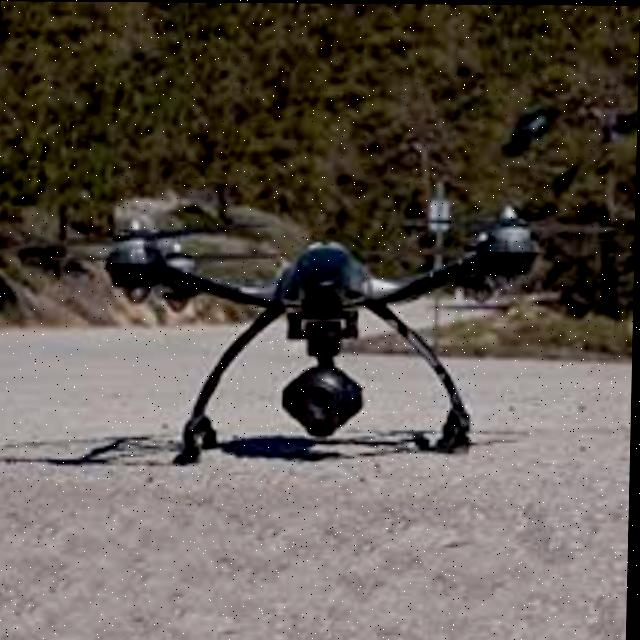drone: (52, 167, 637, 481)
